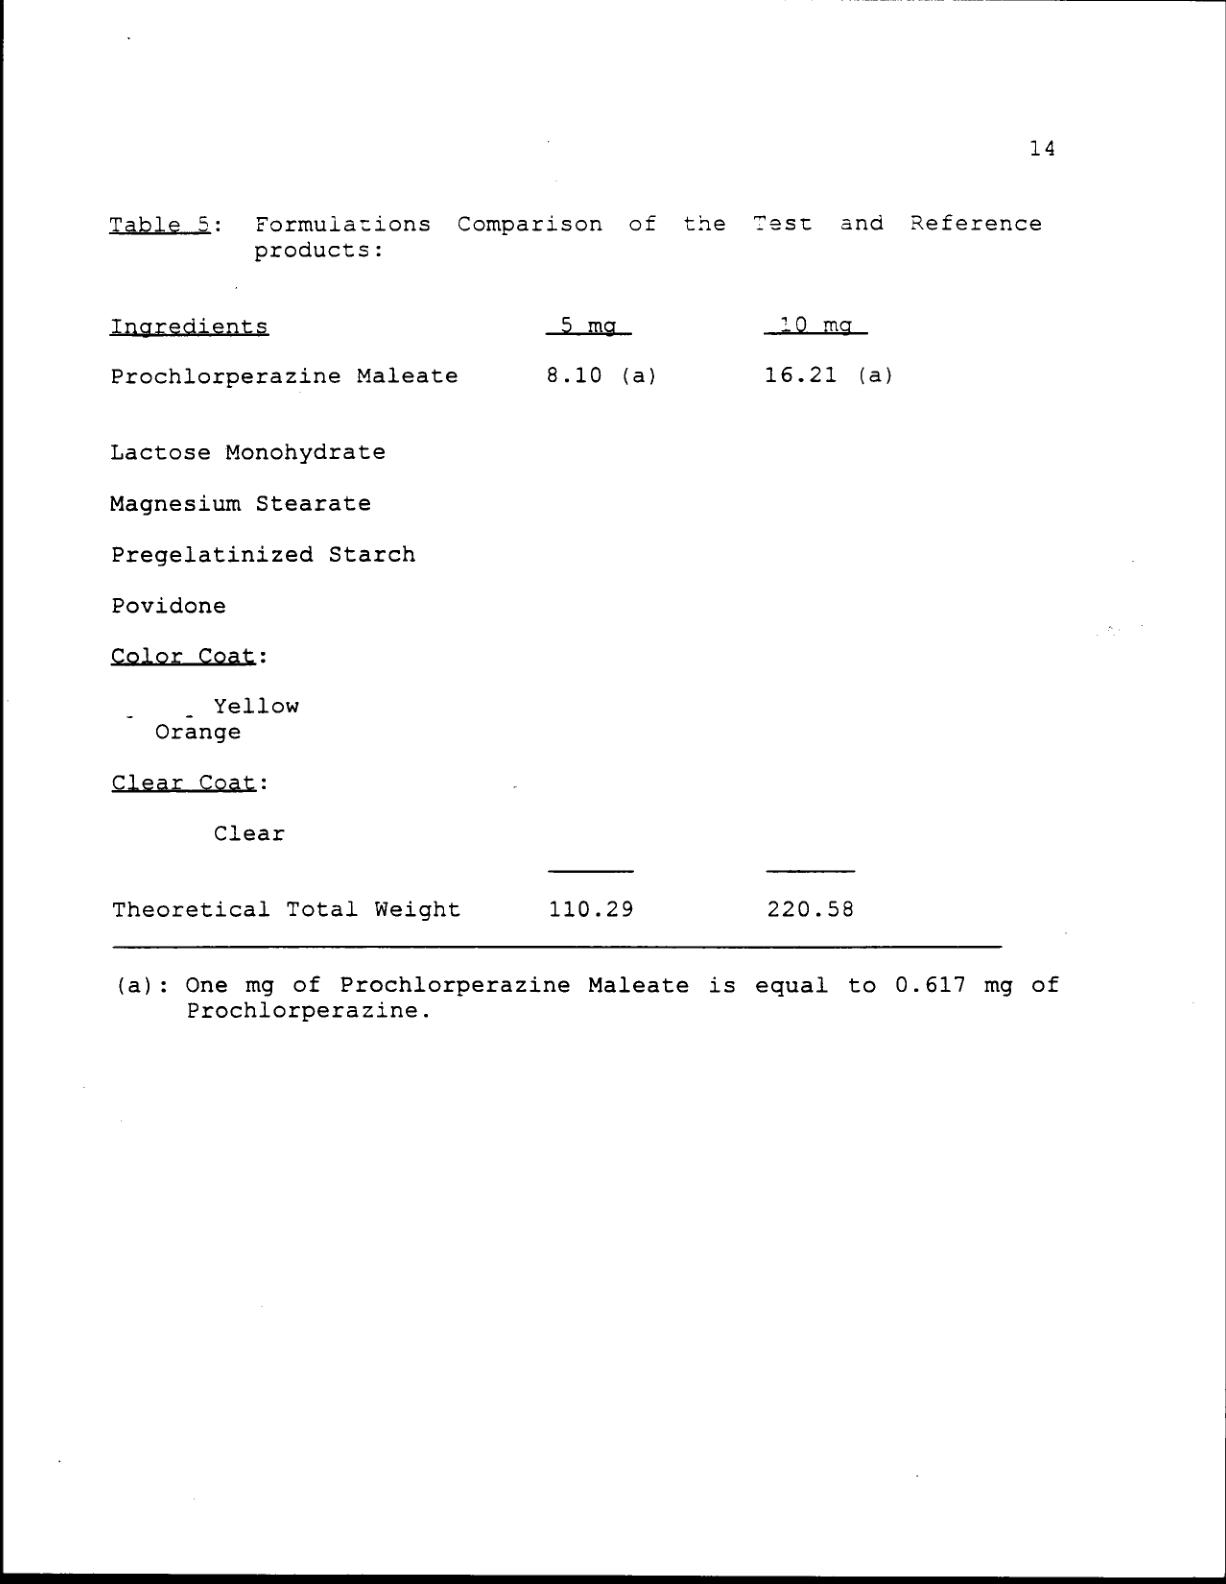nolines: (105, 309, 896, 388)
